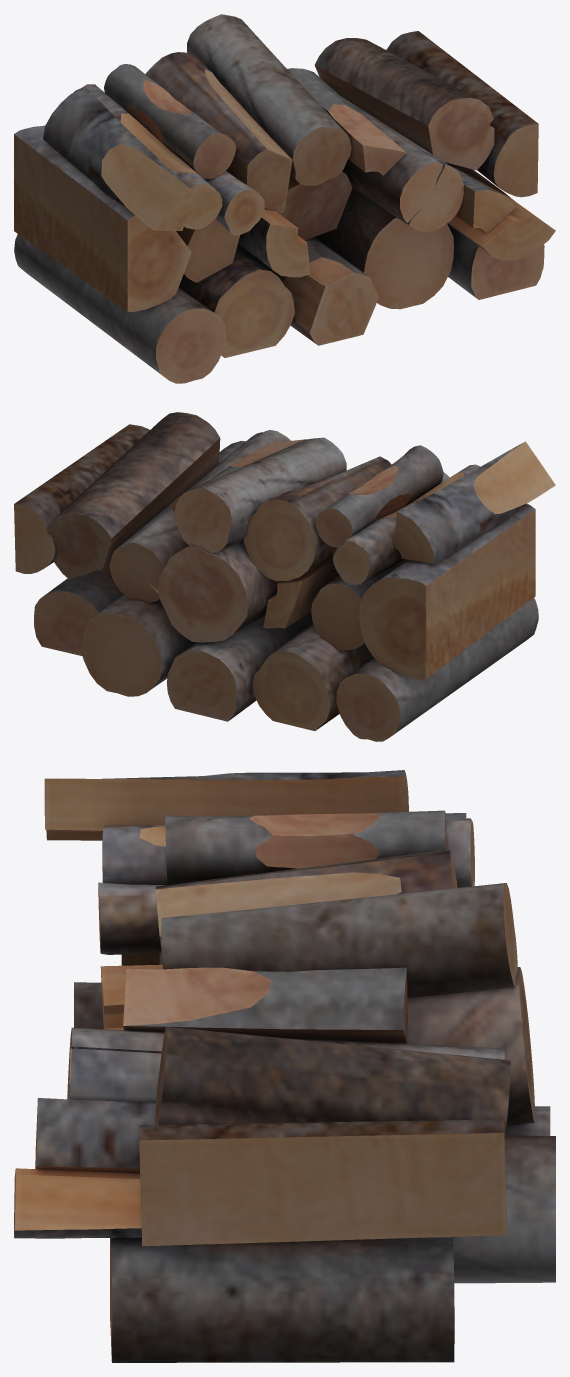
File: firewood_low_poly.glb
The picture shows the model from 3 angles, top to bottom: view 1: azimuth 30°, elevation 25°; view 2: azimuth 150°, elevation 25°; view 3: azimuth 270°, elevation 25°; orthographic projection. The views are drawn at different scales.
Parts seen in each view (by area): view 1: Object001_Object001_mtl_0; view 2: Object001_Object001_mtl_0; view 3: Object001_Object001_mtl_0.
Boxes of the visible parts, x1=… form: Object001_Object001_mtl_0: x1=14, y1=14, x2=555, y2=383; Object001_Object001_mtl_0: x1=14, y1=412, x2=555, y2=741; Object001_Object001_mtl_0: x1=14, y1=770, x2=555, y2=1362.
Bounding box in the file's own units: 0.8231 × 0.4193 × 0.6111.
Materials: 1 (1 with a texture image).
